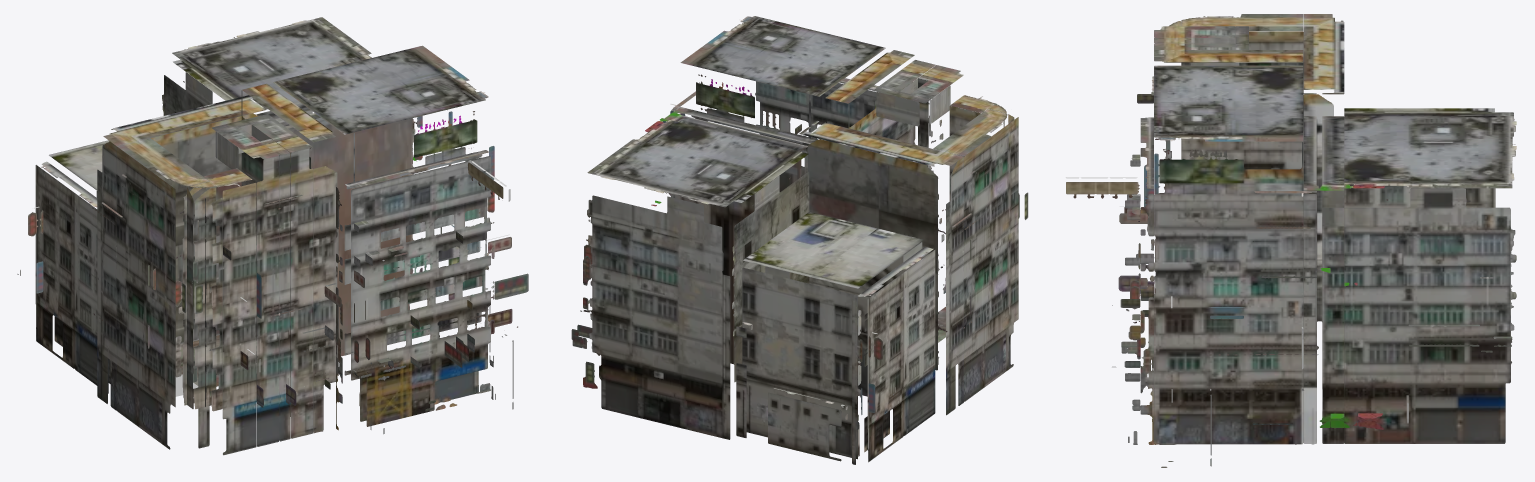
File: block-hkiv-3-imp.glb
3 renders of one model, left to right at view 1: azimuth 30°, elevation 25°; view 2: azimuth 150°, elevation 25°; view 3: azimuth 270°, elevation 25°, orthographic. The views are drawn at different scales.
Visible parts, largest first — view 1: block-hkiv-3-imp; view 2: block-hkiv-3-imp; view 3: block-hkiv-3-imp.
Boxes of the visible parts, x1,y1,x2,y2 form: block-hkiv-3-imp: [17, 17, 528, 455]; block-hkiv-3-imp: [571, 16, 1028, 464]; block-hkiv-3-imp: [1066, 14, 1516, 467].
Size of the model in its own units: 48 by 36.95 by 51.
Materials: 1 (1 with a texture image).
